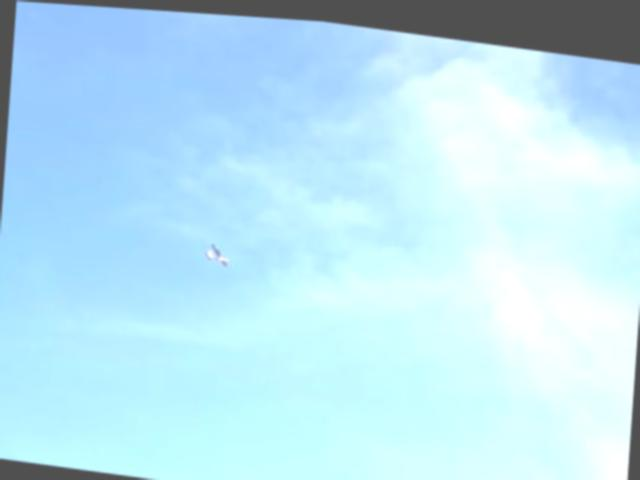uav: (198, 235, 234, 270)
